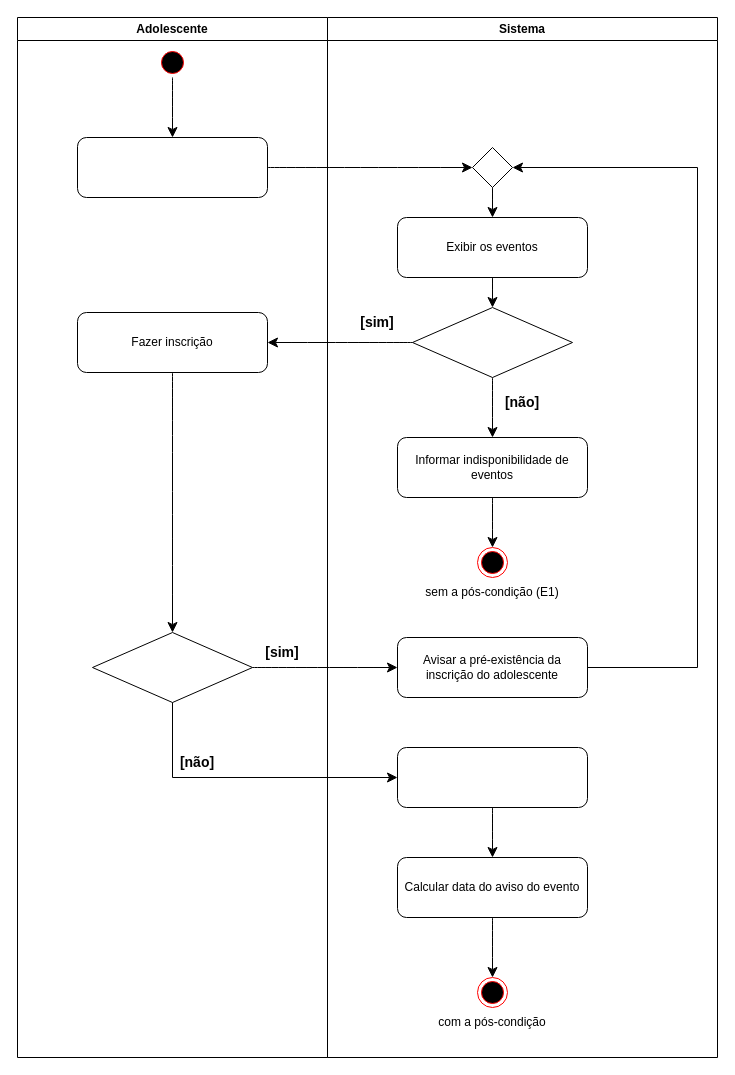
Image size: 735x1075. Some labels were removed from this diagram. The shapes that lost their labels are listed below. From the top down, each one's centre as x and y in pixels, then its label:
At [172,167]: "Entrar no sistema".
At [492,342]: "existem eventos disponíveis?".
At [172,667]: "adolescente já inscrito?".
At [492,777]: "Registrar inscrição com o nome do adolescente".
